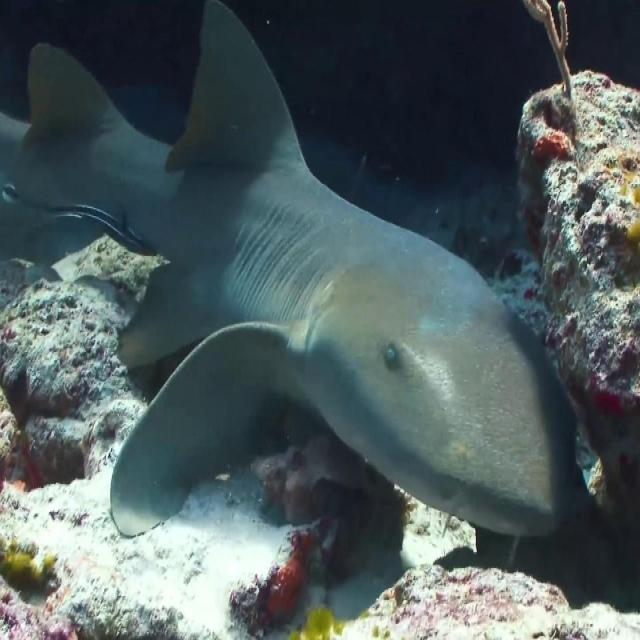fish: (0, 0, 581, 539)
reefs: (544, 25, 572, 96)
sea-floor: (512, 68, 637, 582)
